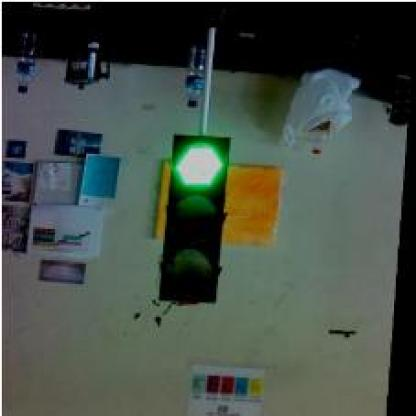green: (163, 132, 233, 300)
